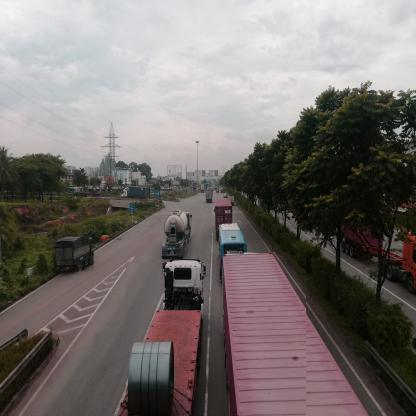bus: (220, 224, 245, 255)
container: (220, 253, 307, 416), (127, 263, 205, 416), (215, 200, 233, 226), (121, 187, 151, 199)
truck: (163, 212, 193, 260), (56, 238, 95, 273), (207, 191, 215, 203)
